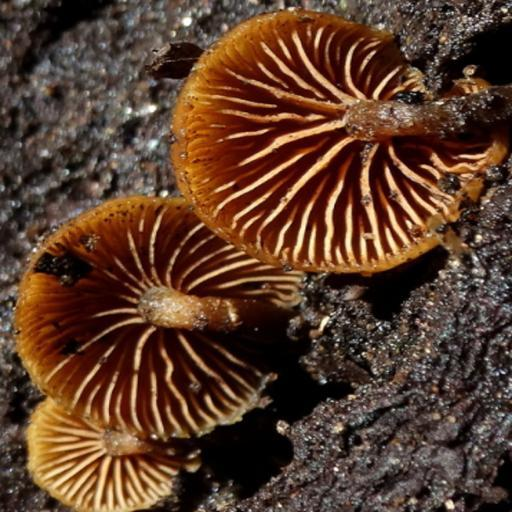mushroom: (166, 6, 498, 270), (12, 206, 295, 501)
